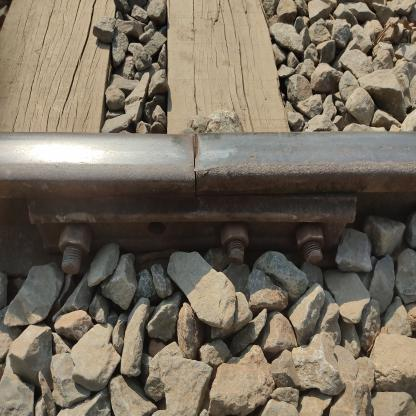Defective 3: (20, 186, 364, 294)
